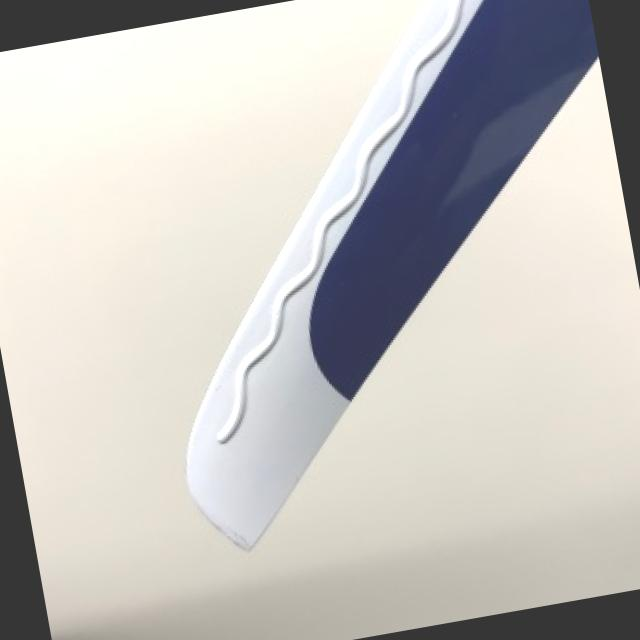healthy: (188, 0, 598, 544)
